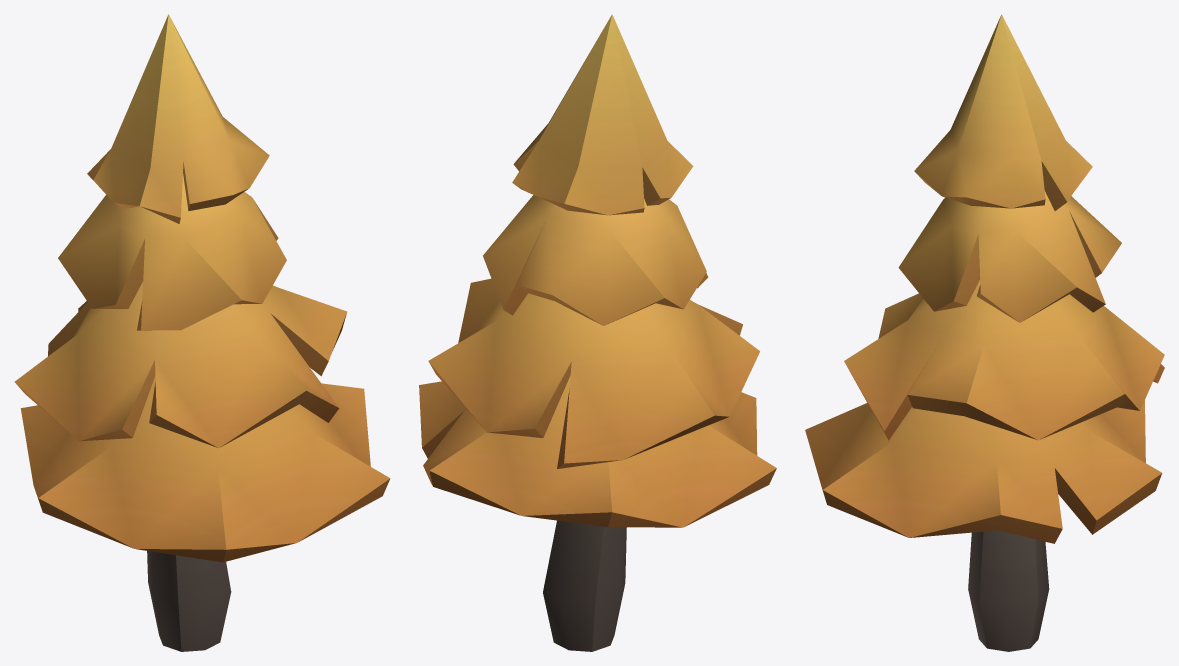
Rendered from pine_medium.glb.
3 views of the same model, side by side, from view 1: azimuth 30°, elevation 25°; view 2: azimuth 150°, elevation 25°; view 3: azimuth 270°, elevation 25° (orthographic). The views are drawn at different scales.
Parts seen in each view (by area): view 1: tree_pine_yellow_medium; view 2: tree_pine_yellow_medium; view 3: tree_pine_yellow_medium.
Part boxes in pixels (x1,y1,x2,y2): tree_pine_yellow_medium: (14, 14, 390, 651); tree_pine_yellow_medium: (419, 14, 776, 651); tree_pine_yellow_medium: (805, 14, 1164, 651).
Size of the model in its own units: 3.33 by 5.87 by 3.12.
Materials: 1 (1 with a texture image).
